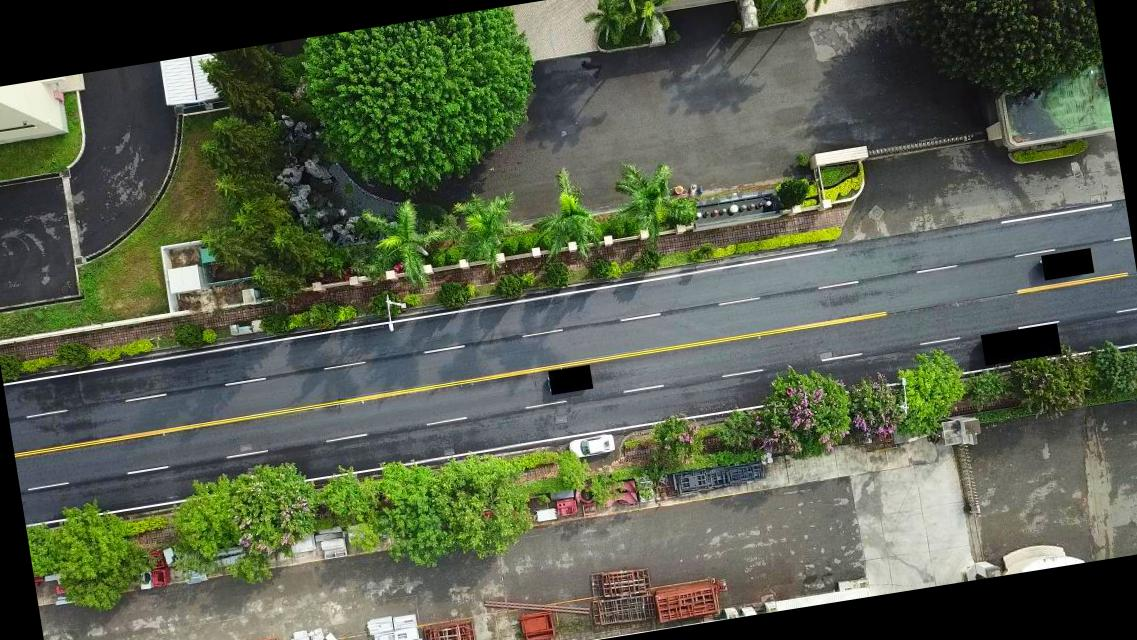vehicle: (568, 432, 616, 459)
